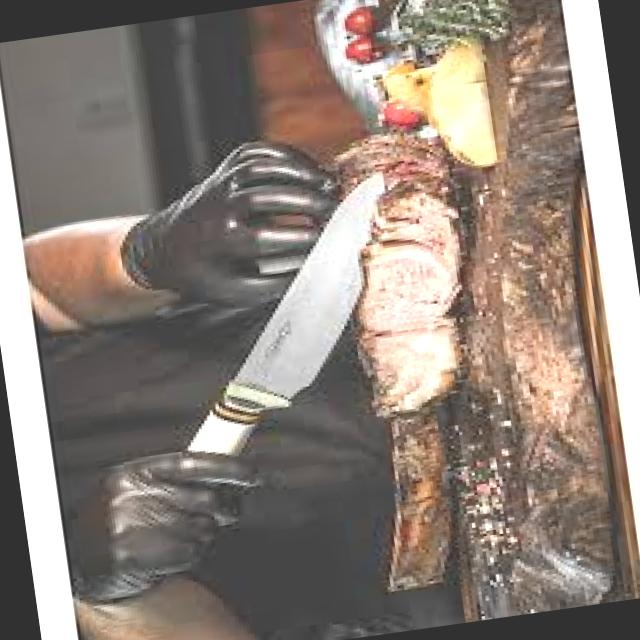knife: (129, 167, 424, 498), (190, 173, 388, 452)
